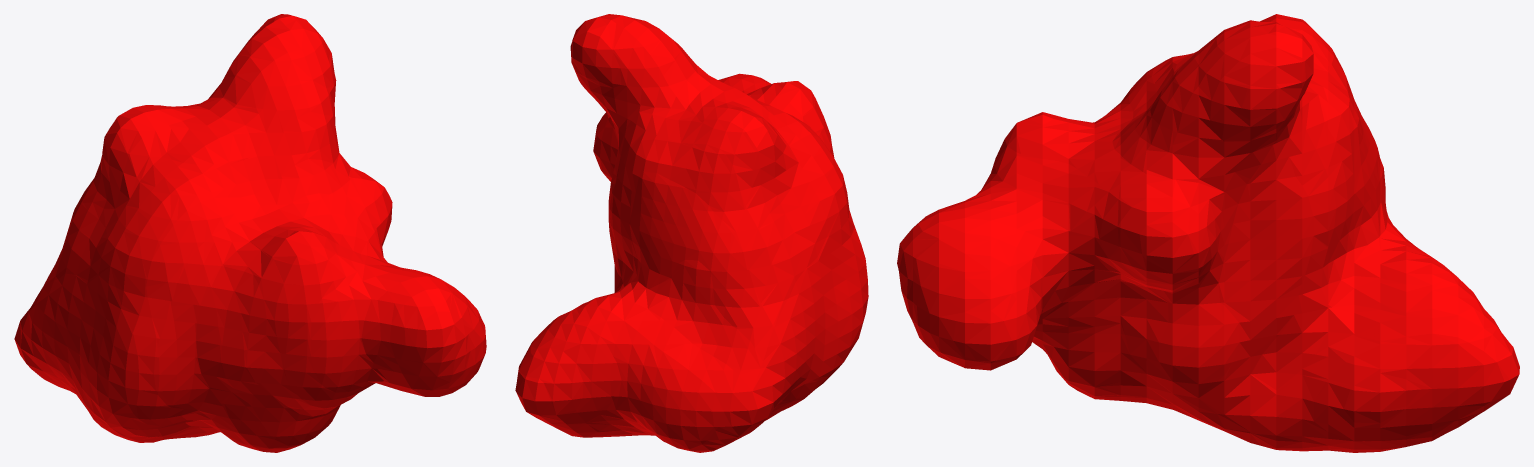
Rendered from luxS_coarse.dae.
The picture shows the model from 3 angles, left to right: view 1: azimuth 30°, elevation 25°; view 2: azimuth 150°, elevation 25°; view 3: azimuth 270°, elevation 25°; orthographic projection. The views are drawn at different scales.
Parts seen in each view (by area): view 1: luxS; view 2: luxS; view 3: luxS.
Boxes of the visible parts, left/top/right/bottom form: luxS: left=14, top=14, right=486, bottom=452; luxS: left=515, top=14, right=868, bottom=452; luxS: left=897, top=14, right=1519, bottom=452.
Bounding box in the file's own units: 37.53 × 48.94 × 60.49.
